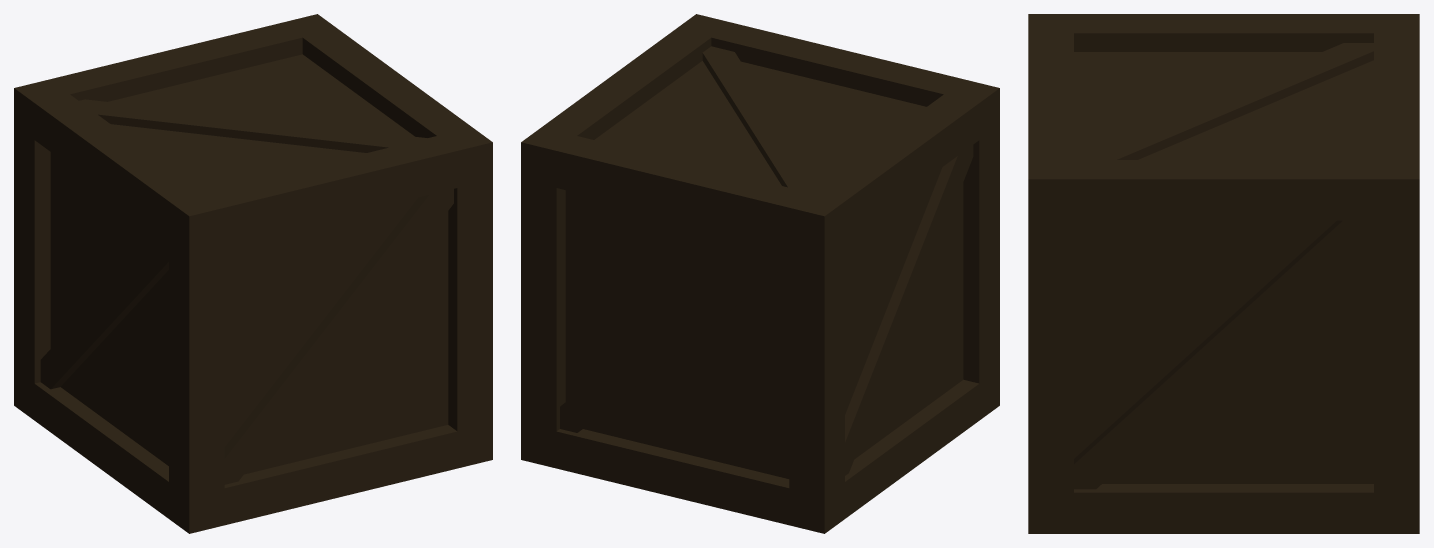
The model's file is MM_Crate.fbx.
The picture shows the model from 3 angles, left to right: view 1: azimuth 30°, elevation 25°; view 2: azimuth 150°, elevation 25°; view 3: azimuth 270°, elevation 25°; orthographic projection. The views are drawn at different scales.
Parts seen in each view (by area): view 1: MM_Crate; view 2: MM_Crate; view 3: MM_Crate.
Boxes of the visible parts, bbox=[...] form: MM_Crate: bbox=[14, 14, 492, 533]; MM_Crate: bbox=[521, 14, 999, 533]; MM_Crate: bbox=[1028, 14, 1419, 533].
Bounding box in the file's own units: 62.35 × 62.35 × 62.35.
